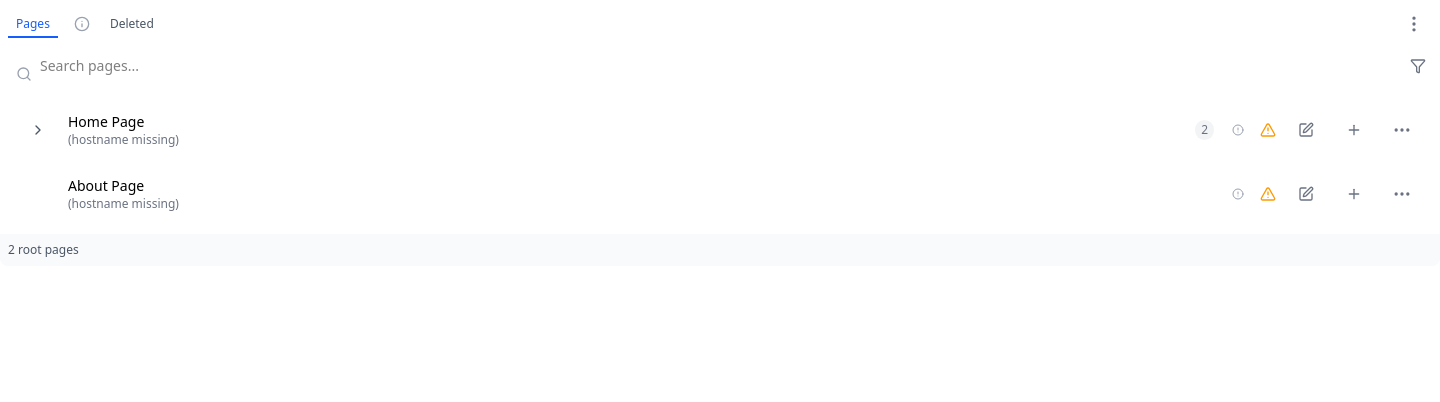
Scenario: TreePageManager › starts branches collapsed and loads children only after expansion
This screenshot has width=1440, height=402.
Expected: the button "Home Page" is shown, [68, 112, 144, 132]
Expected: the button "About Page" is shown, [68, 176, 144, 196]
Step 1. Click the button named "Expand Home Page" → [38, 130], box [16, 108, 60, 152]
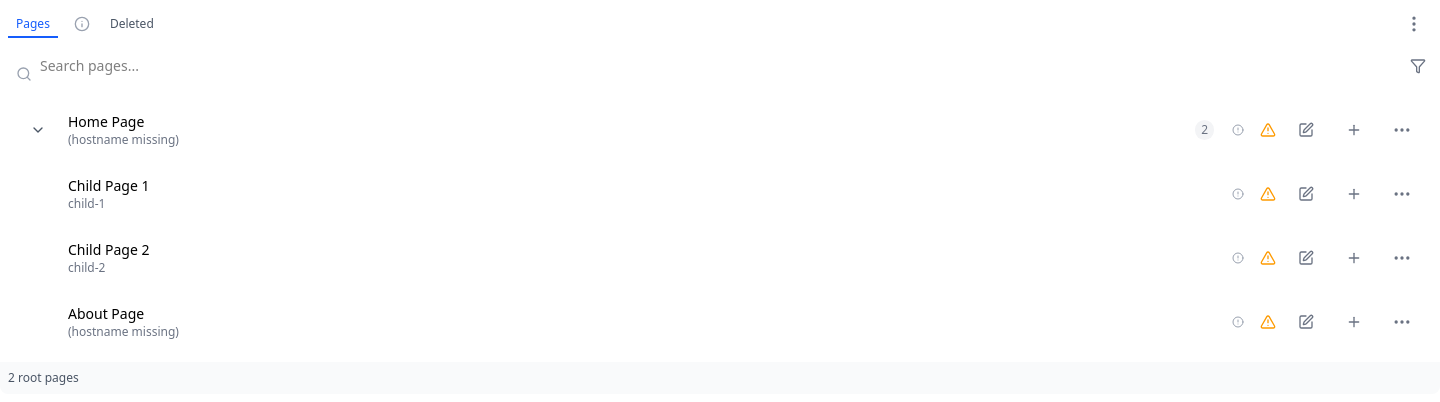
Now the button "Child Page 1" is shown, box [68, 176, 150, 196]
